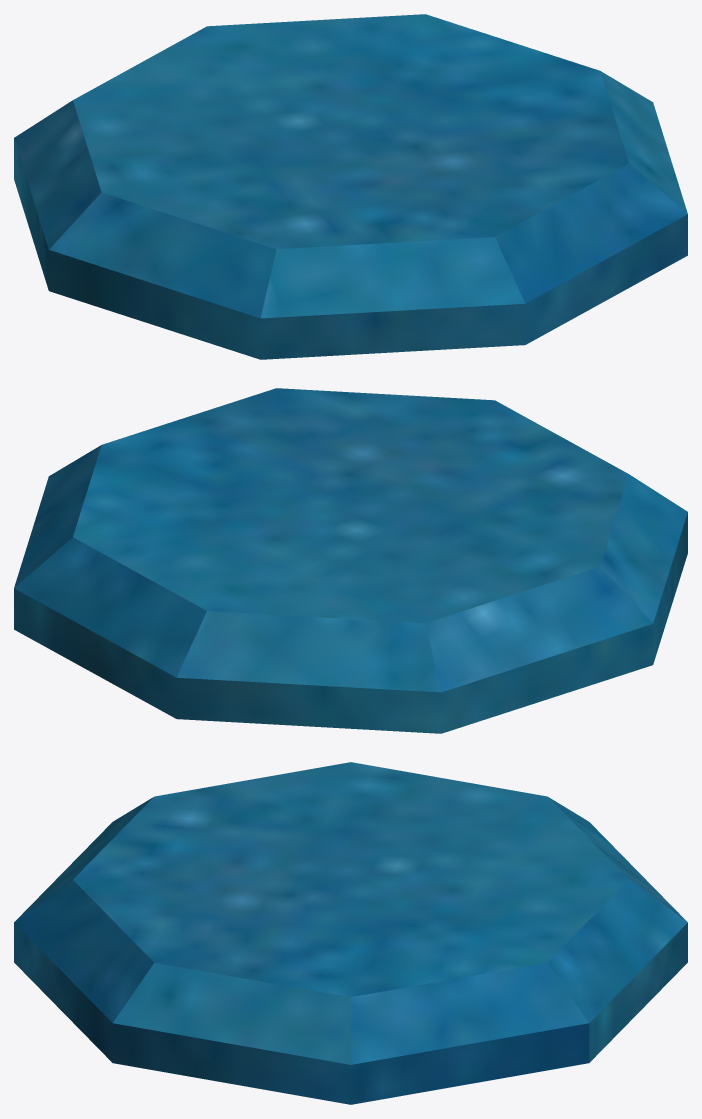
The model's file is plate2.FBX.
3 views of the same model, one above another, from view 1: azimuth 30°, elevation 25°; view 2: azimuth 150°, elevation 25°; view 3: azimuth 270°, elevation 25° (orthographic). The views are drawn at different scales.
Visible parts, largest first — view 1: Cylinder001; view 2: Cylinder001; view 3: Cylinder001.
Boxes of the visible parts, x1,y1,x2,y2 form: Cylinder001: (14,14,687,359); Cylinder001: (14,388,687,733); Cylinder001: (14,762,687,1104).
Size of the model in its own units: 43.71 by 5.93 by 43.71.
1 material, 1 textured.
